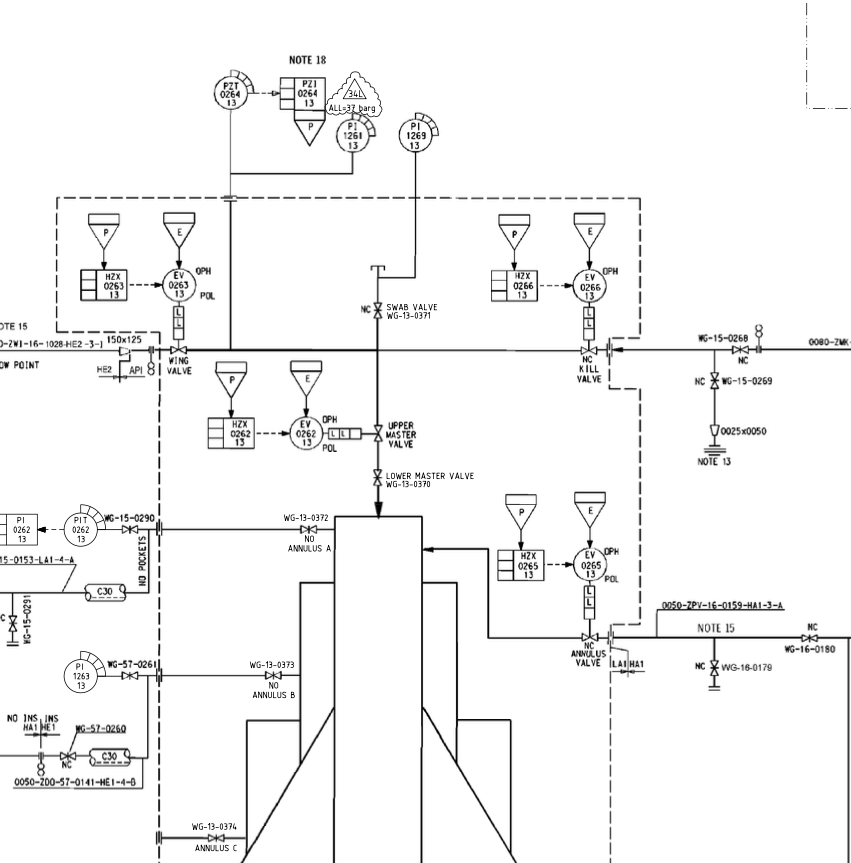Instrument: (60, 654, 102, 700), (332, 117, 373, 158), (283, 413, 325, 452), (213, 71, 250, 114), (159, 265, 198, 305), (570, 545, 611, 583), (569, 268, 611, 305), (60, 512, 103, 548), (398, 118, 437, 155)
Instrument-square: (492, 543, 548, 585), (486, 265, 543, 306), (203, 413, 259, 454), (274, 73, 331, 112), (75, 264, 132, 303), (1, 510, 43, 553)
